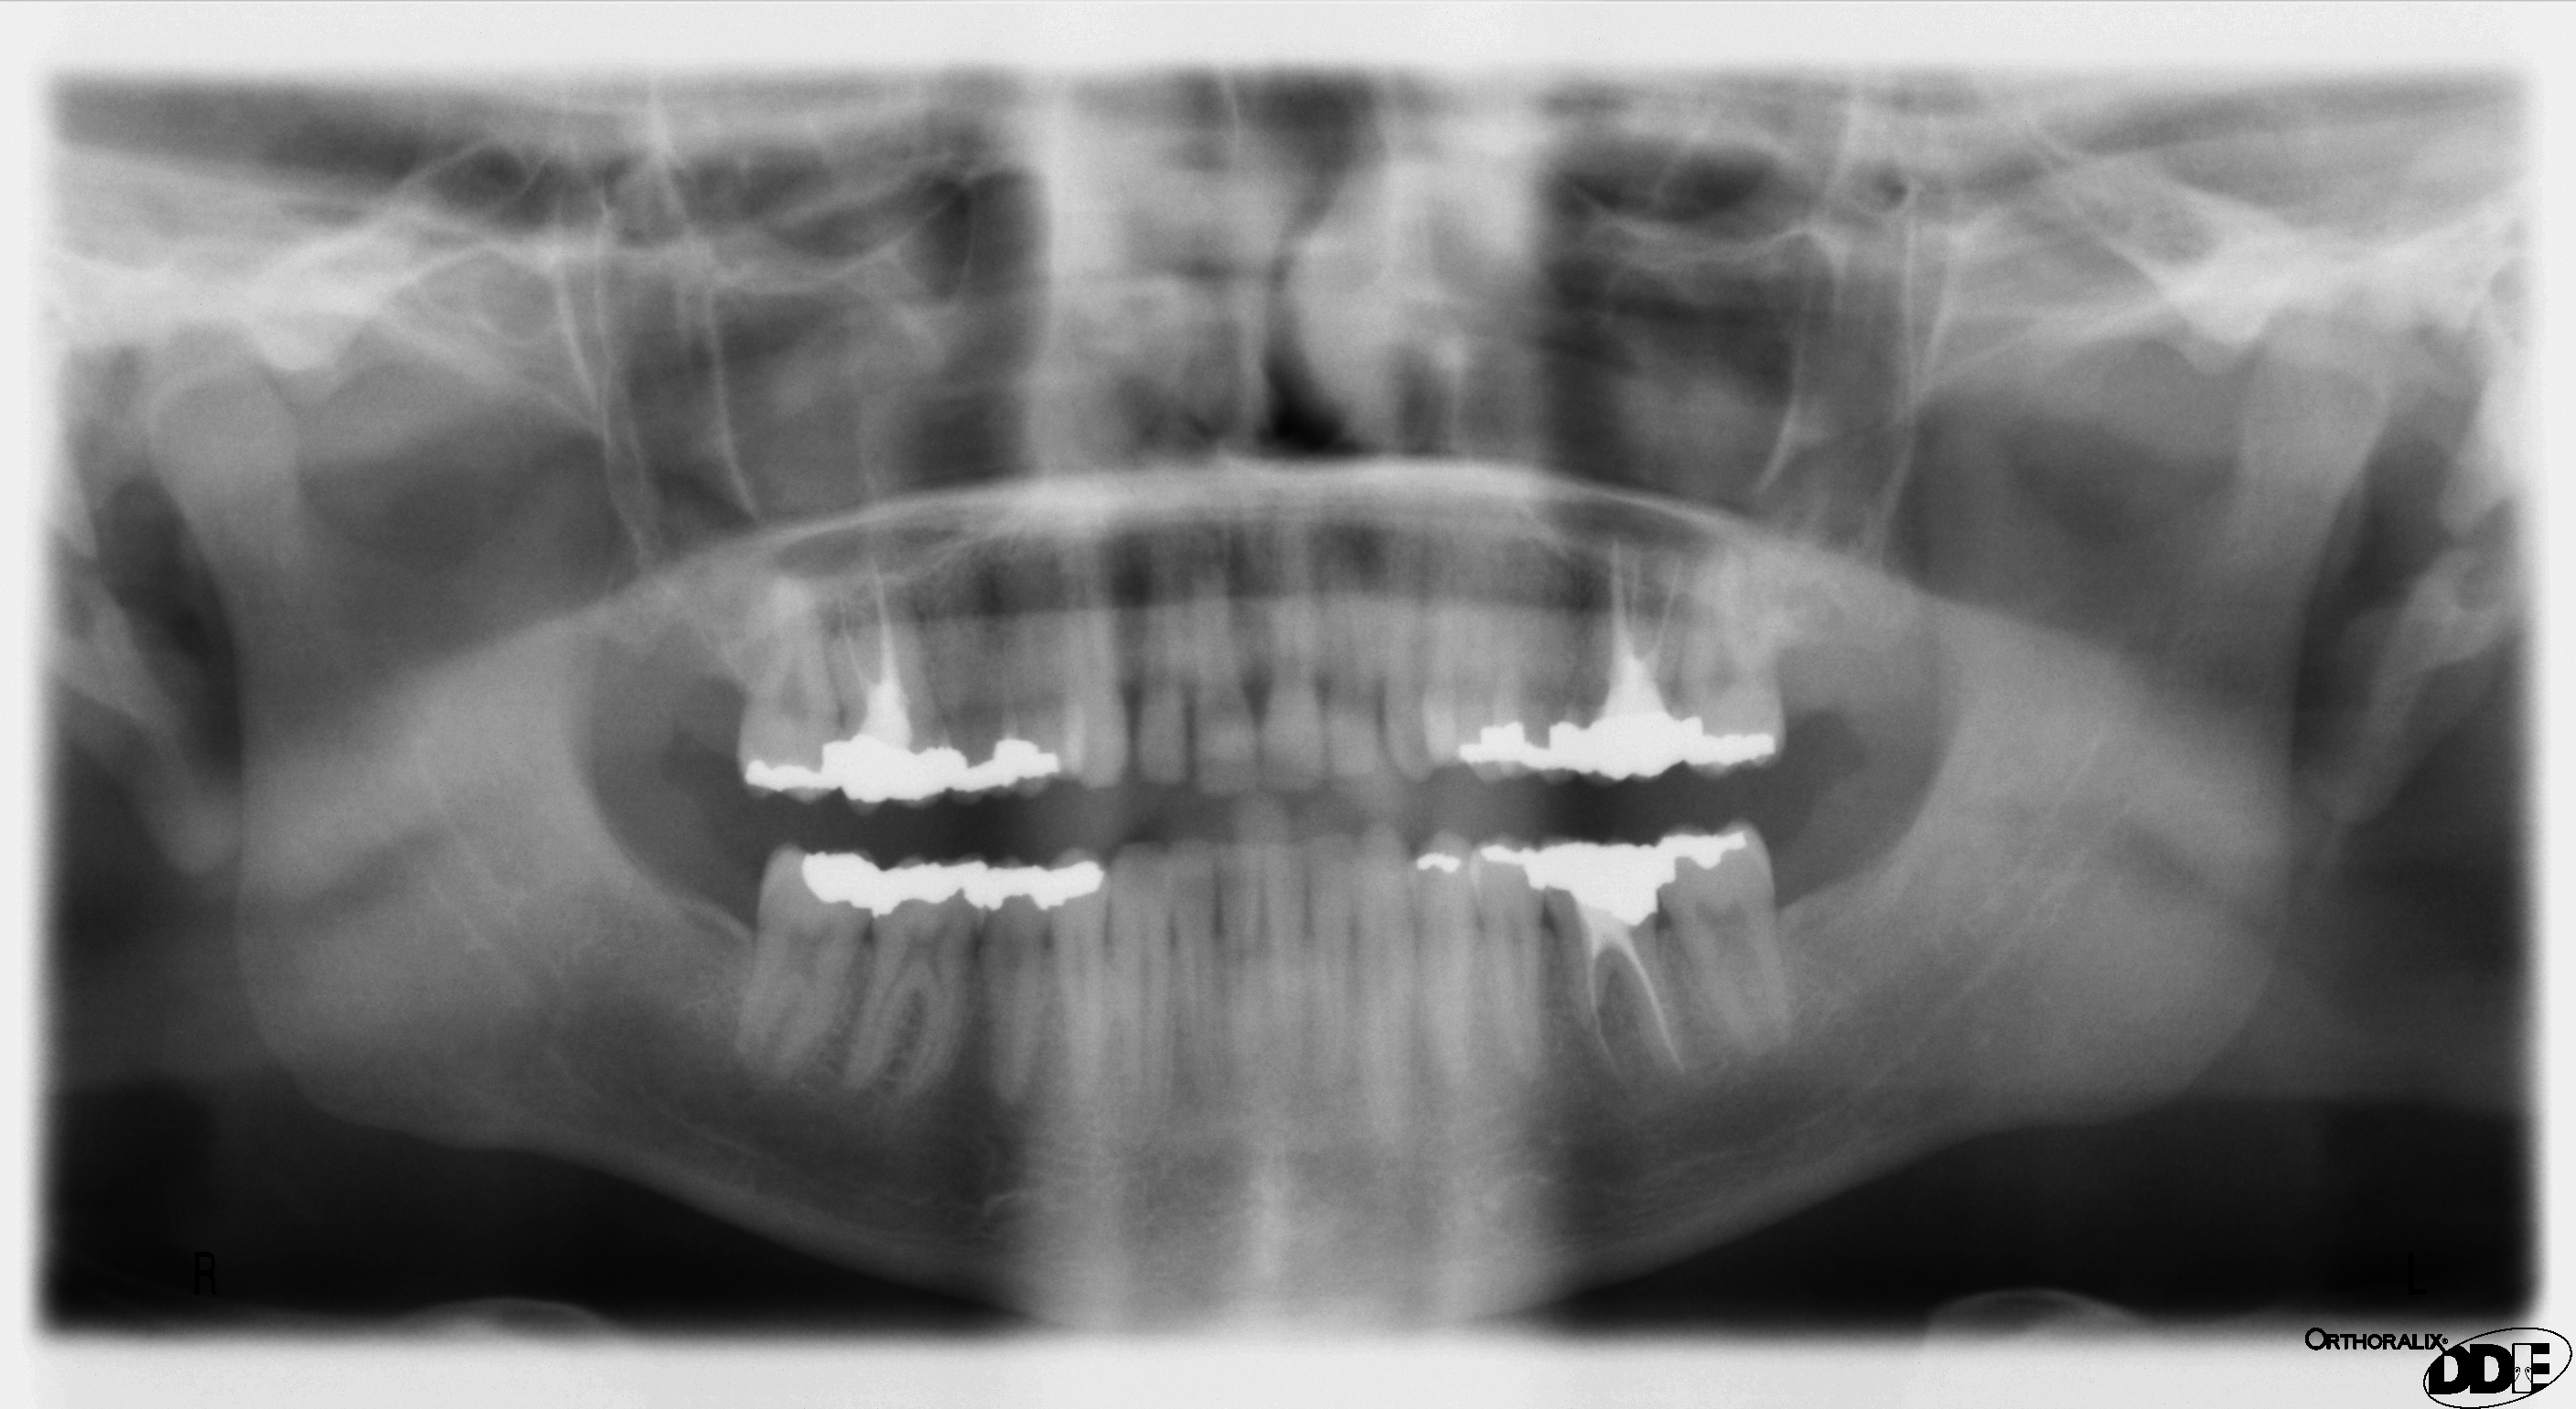canine: (1049, 486, 1128, 793), (1377, 512, 1457, 798), (1102, 814, 1178, 1105), (1358, 814, 1428, 1119)
incisor: (1115, 500, 1187, 821), (1317, 474, 1388, 786), (1192, 512, 1259, 807), (1263, 510, 1329, 809), (1301, 816, 1362, 1104), (1162, 824, 1223, 1086), (1218, 829, 1268, 1076), (1266, 831, 1306, 1065)
molar: (841, 836, 989, 1098), (1540, 833, 1684, 1085), (1658, 816, 1797, 1064), (741, 831, 873, 1083)
premolar: (971, 840, 1074, 1109), (1461, 816, 1547, 1091), (1398, 819, 1478, 1104), (1049, 843, 1115, 1124)
